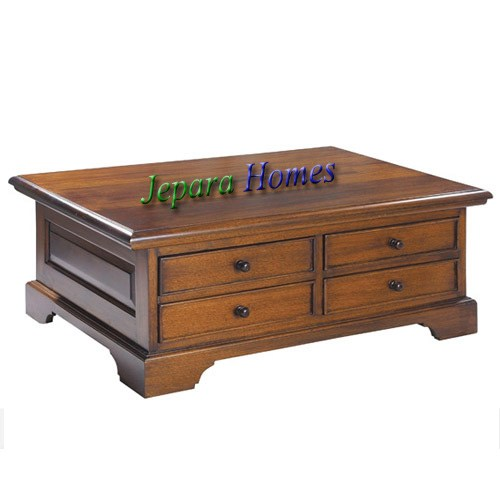Carving Table: (12, 150, 488, 390)
